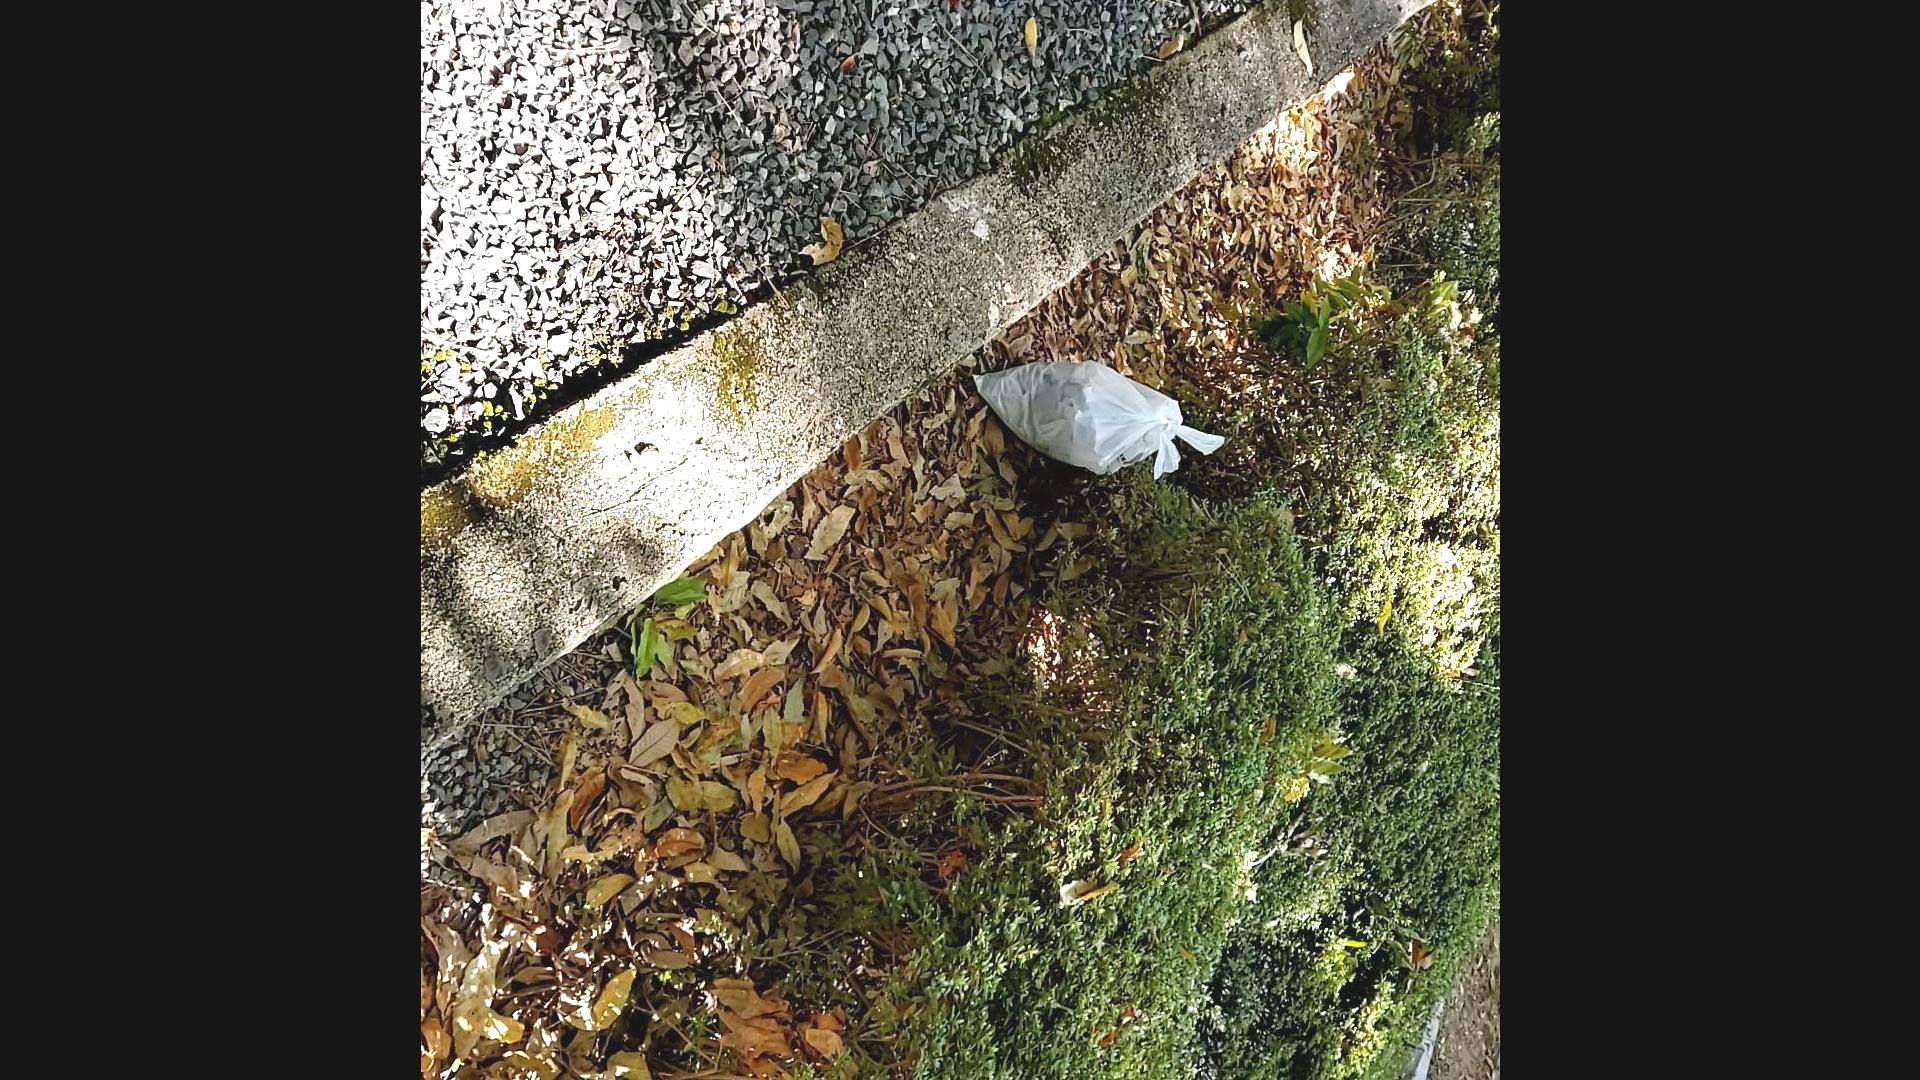white_bag: (957, 343, 1236, 500)
